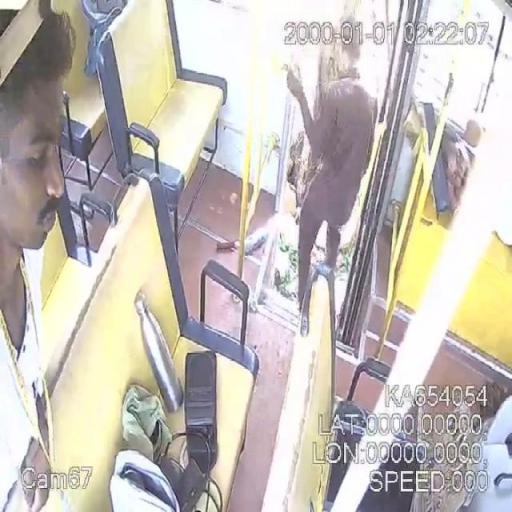persona: (0, 1, 77, 511), (281, 20, 380, 312), (437, 107, 512, 223)
